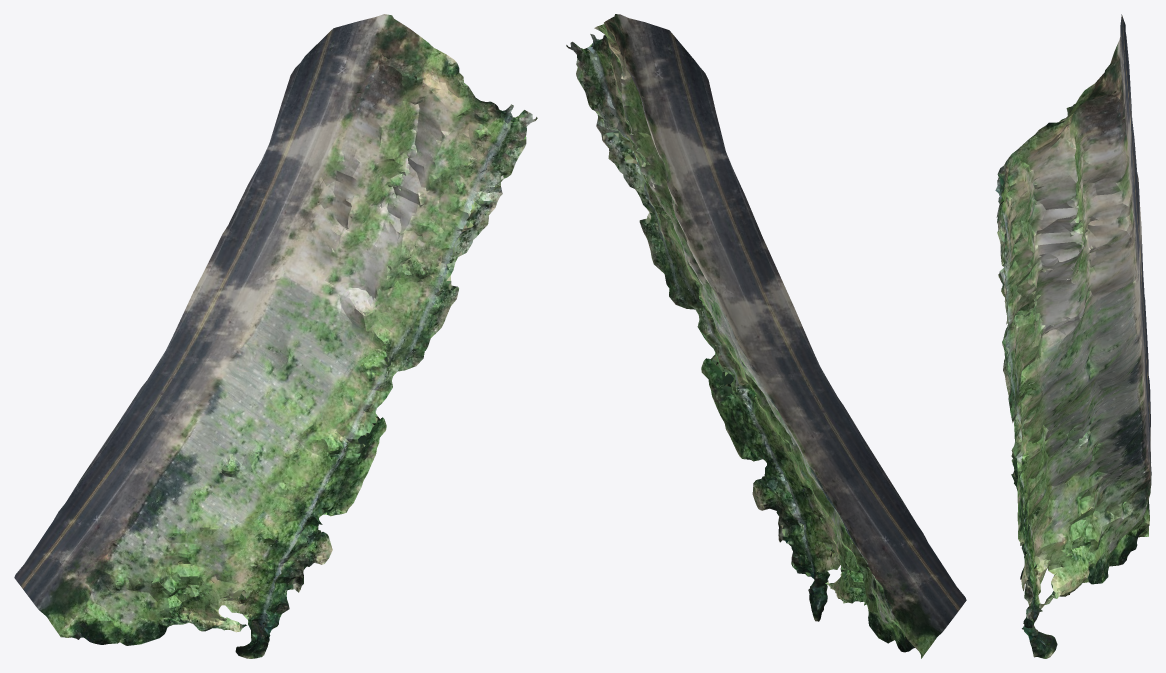
3 views of the same model, side by side, from view 1: azimuth 30°, elevation 25°; view 2: azimuth 150°, elevation 25°; view 3: azimuth 270°, elevation 25° (orthographic). The views are drawn at different scales.
Parts seen in each view (by area): view 1: Bloco 1; view 2: Bloco 1; view 3: Bloco 1.
Boxes of the visible parts, box(x1,y1,x2,y2) form: Bloco 1: box(14, 14, 537, 658); Bloco 1: box(566, 14, 966, 658); Bloco 1: box(995, 14, 1151, 658).
Bounding box in the file's own units: 79.08 × 95.7 × 18.91.
1 material, 1 textured.
